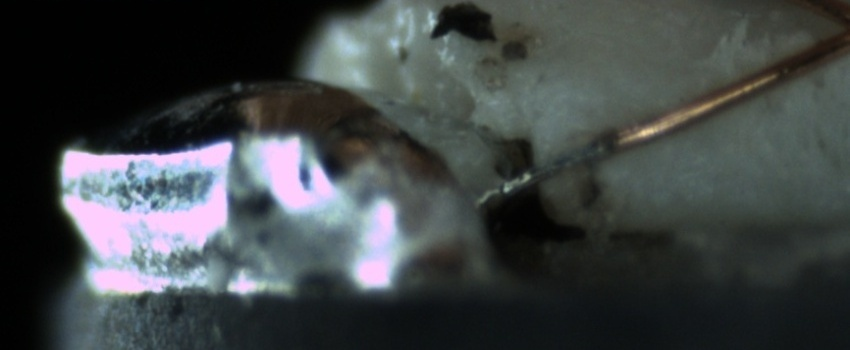CL: (814, 5, 850, 53)
TS: (491, 136, 613, 200)
TTCW: (492, 114, 654, 199)
